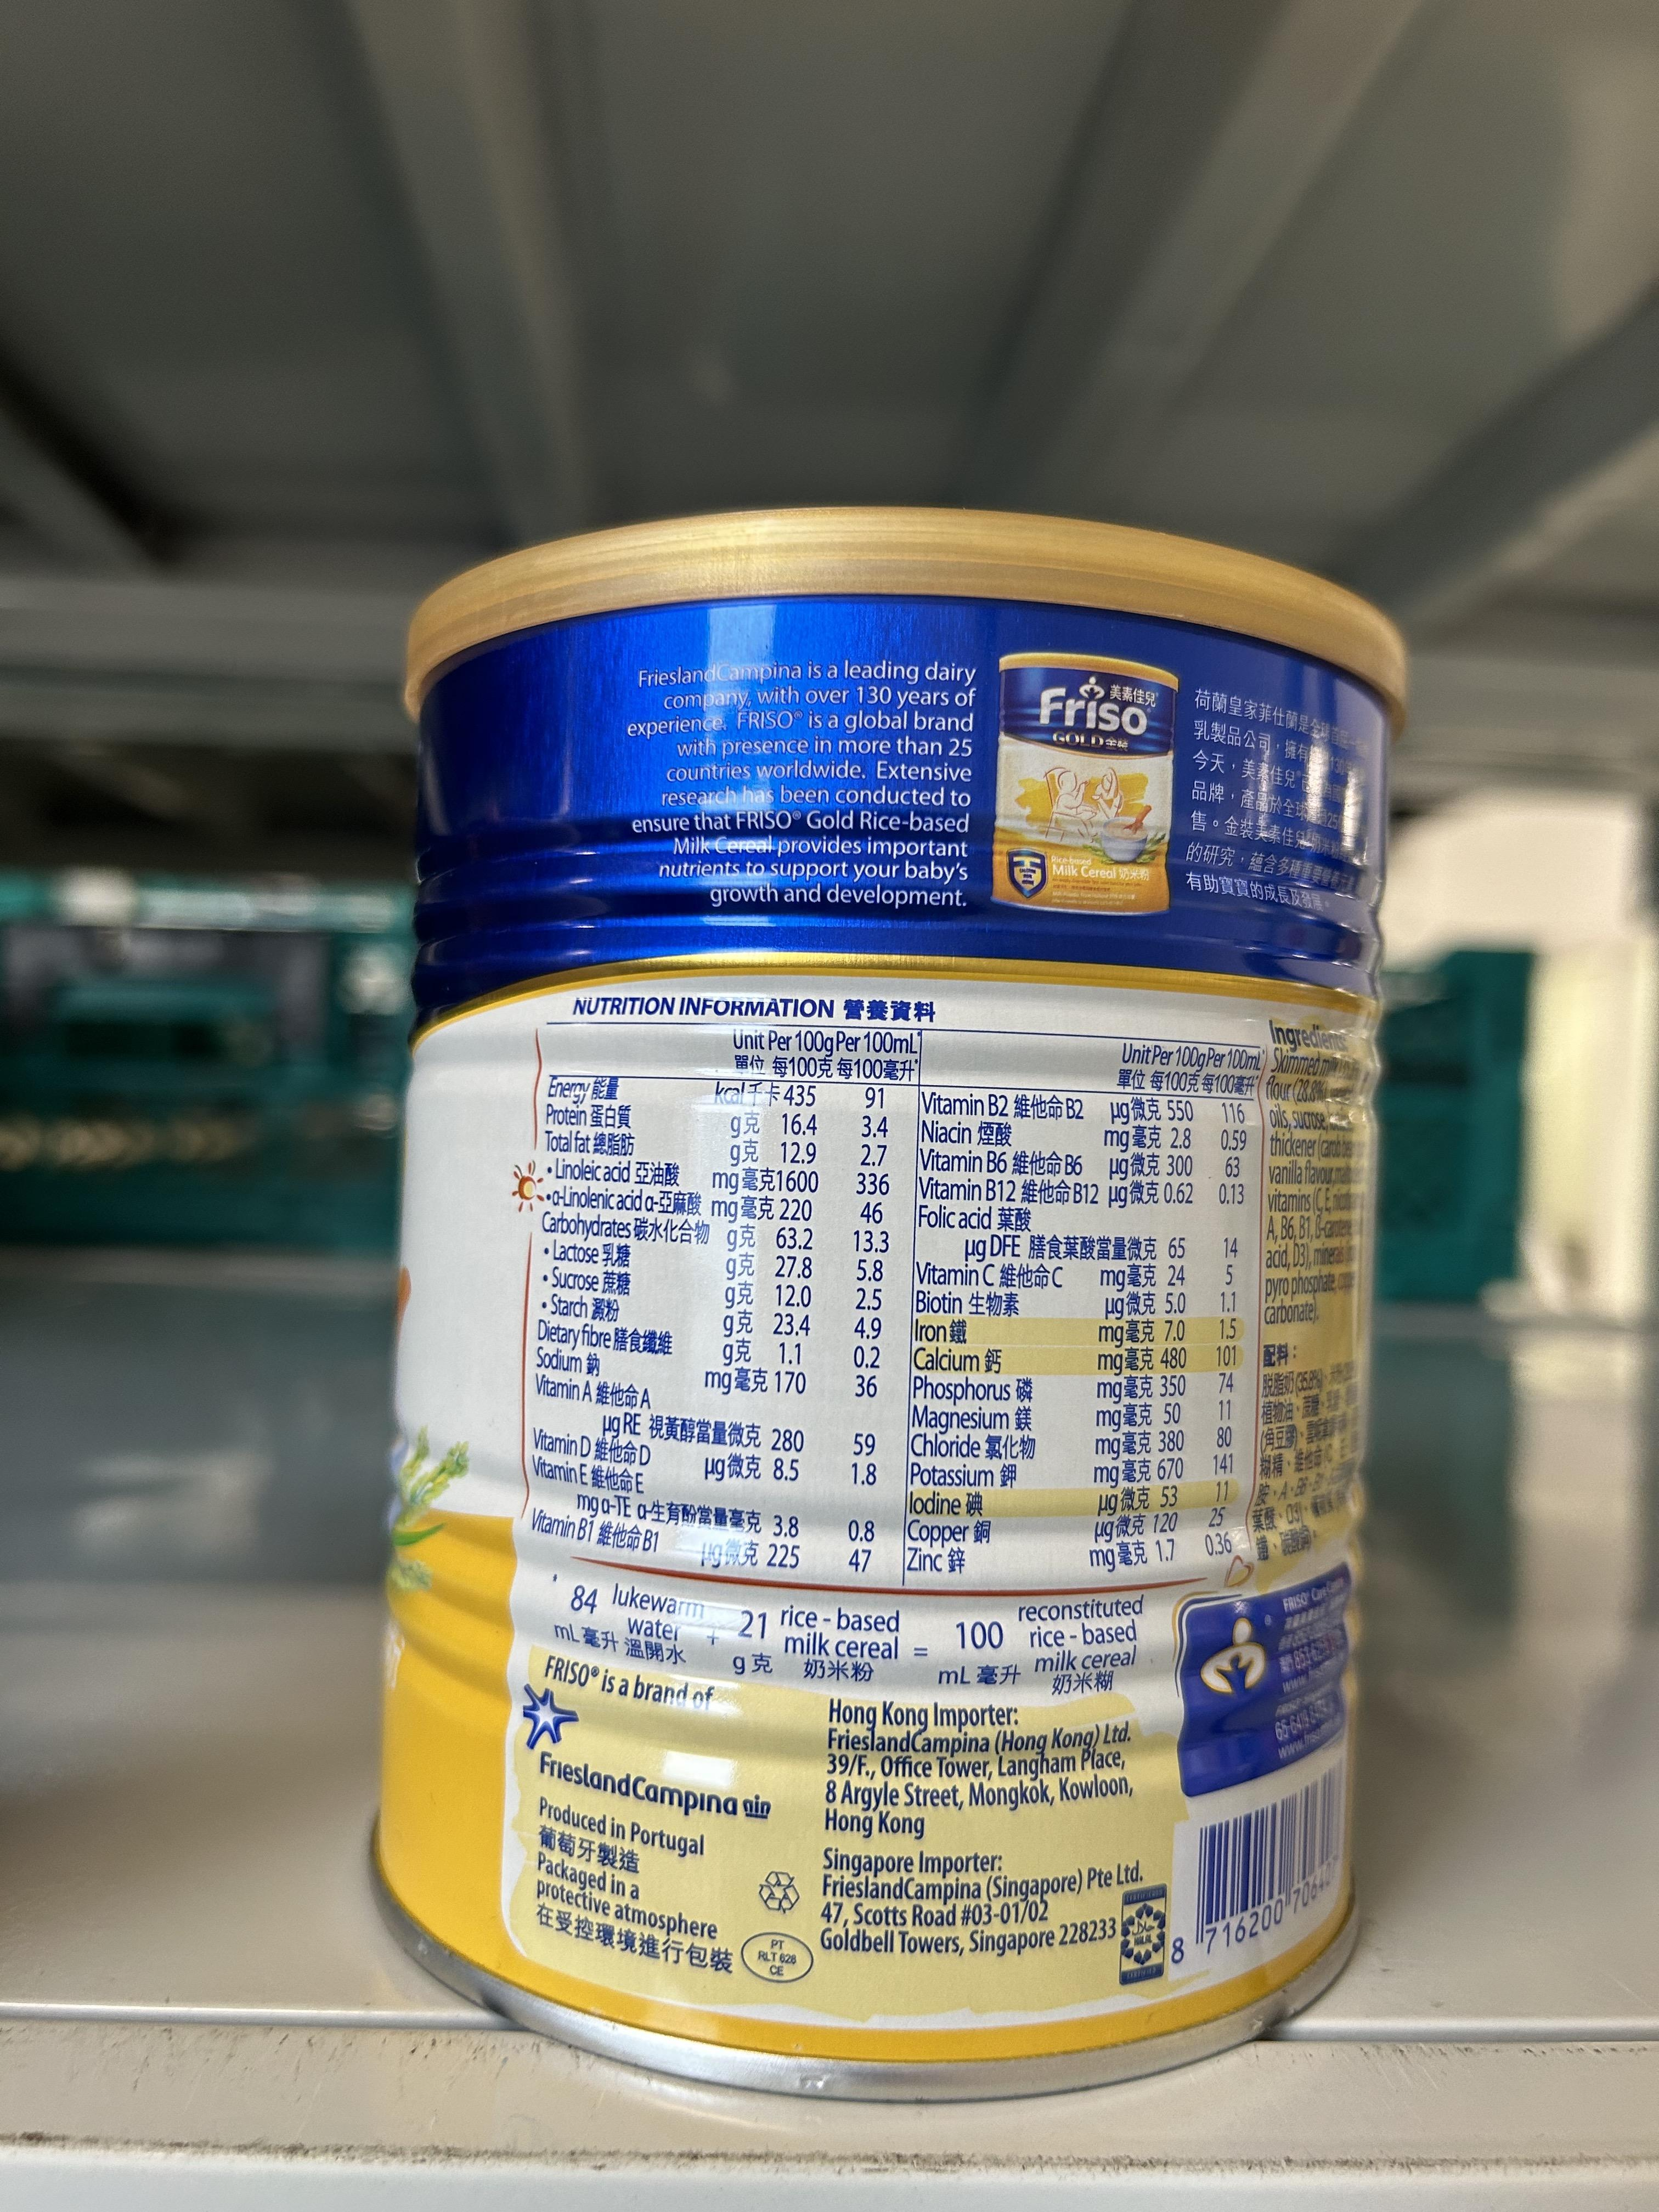object_name: (436, 603, 1349, 1963)
